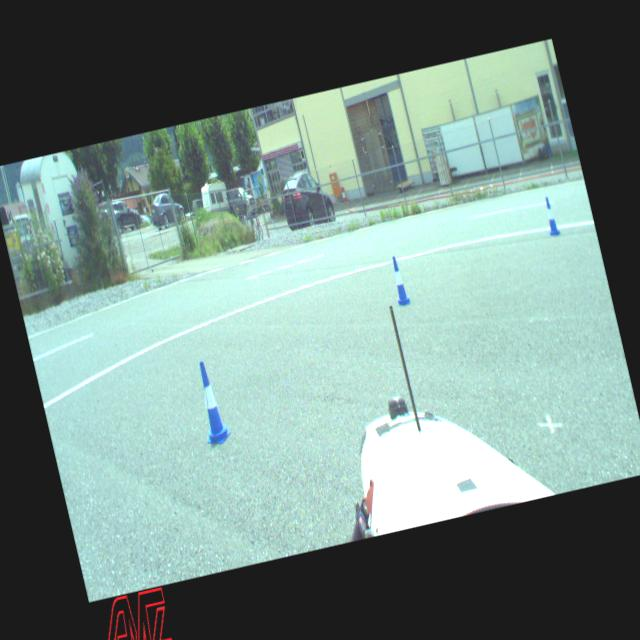blue_cone: (188, 358, 232, 447), (387, 256, 410, 306), (542, 196, 560, 236)
